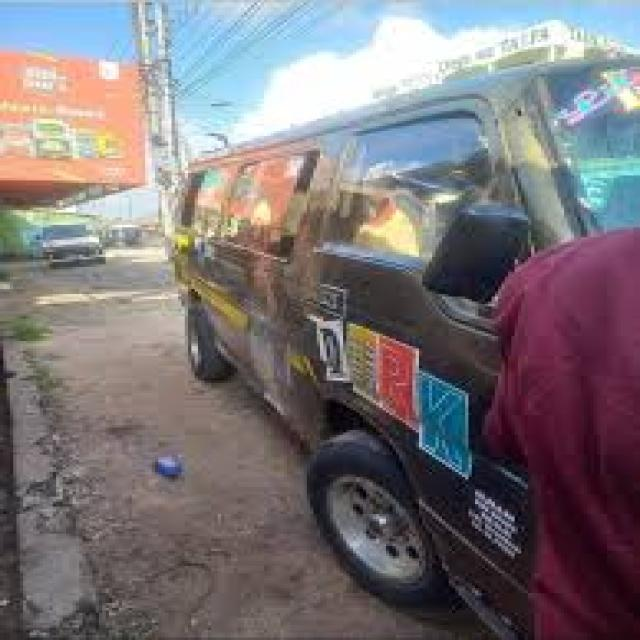matatu: (102, 24, 639, 640)
